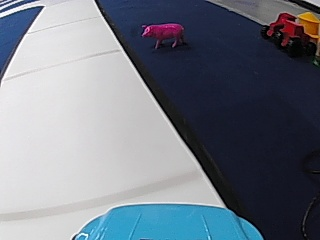pig: (138, 19, 186, 49)
